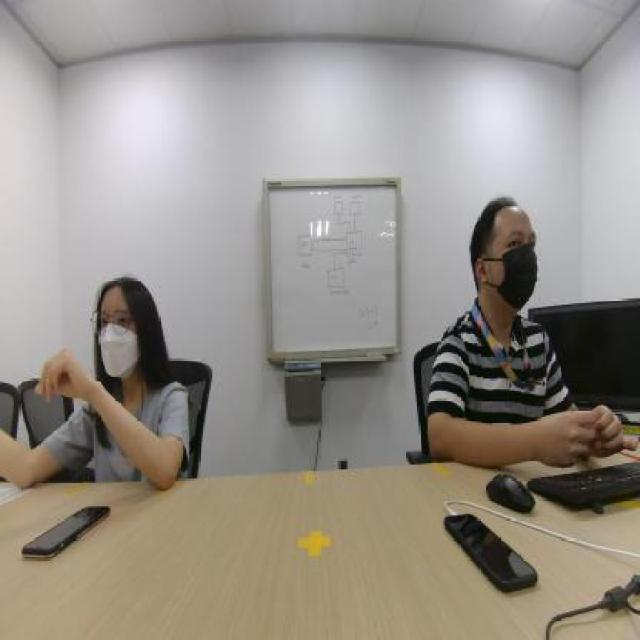Person: (408, 154, 581, 443), (12, 224, 190, 462)
